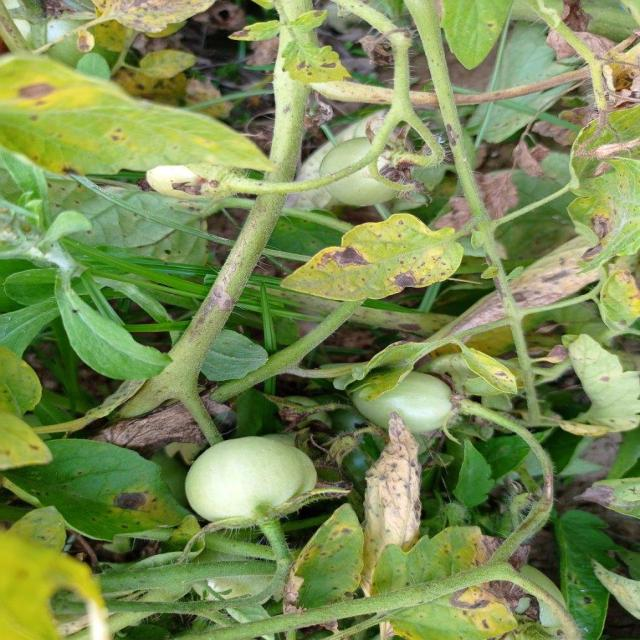Unripe: (182, 438, 314, 530), (357, 368, 461, 437)
